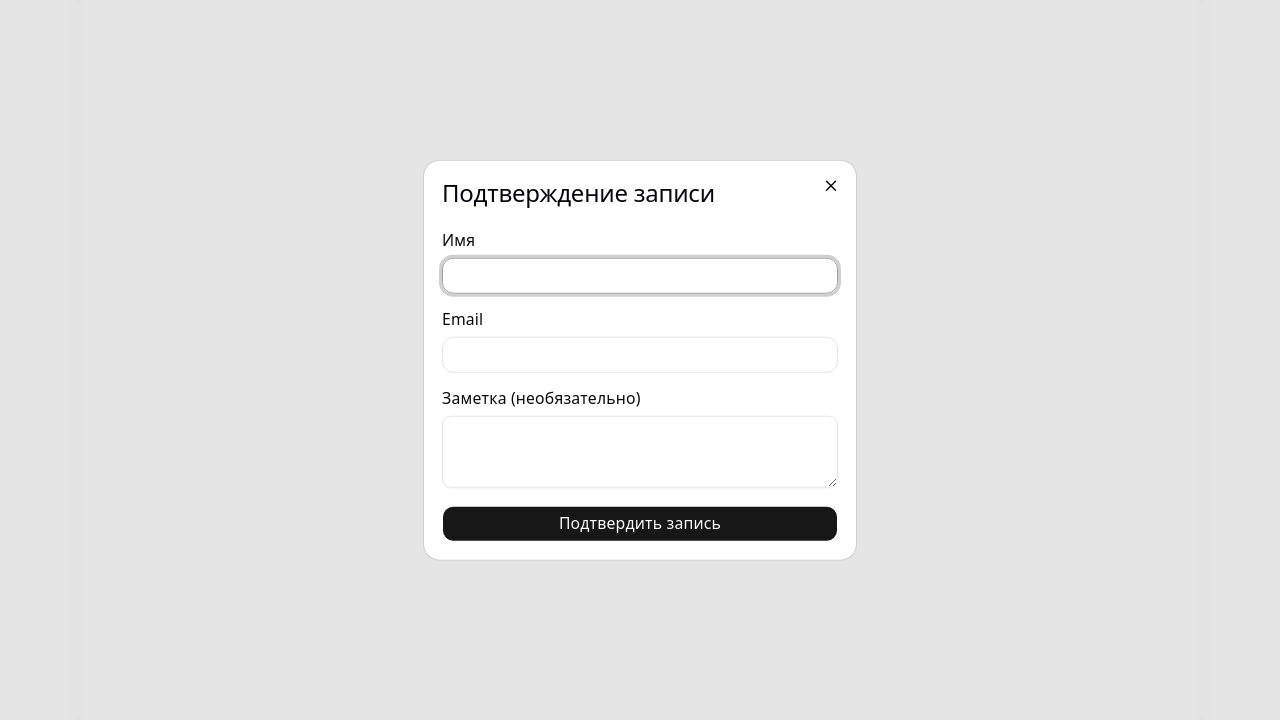
Test: BookingDialog › shows validation errors for empty name and invalid email
Type "not-an-email" into the field labelled "Email" at (640, 354), box [442, 336, 838, 372]
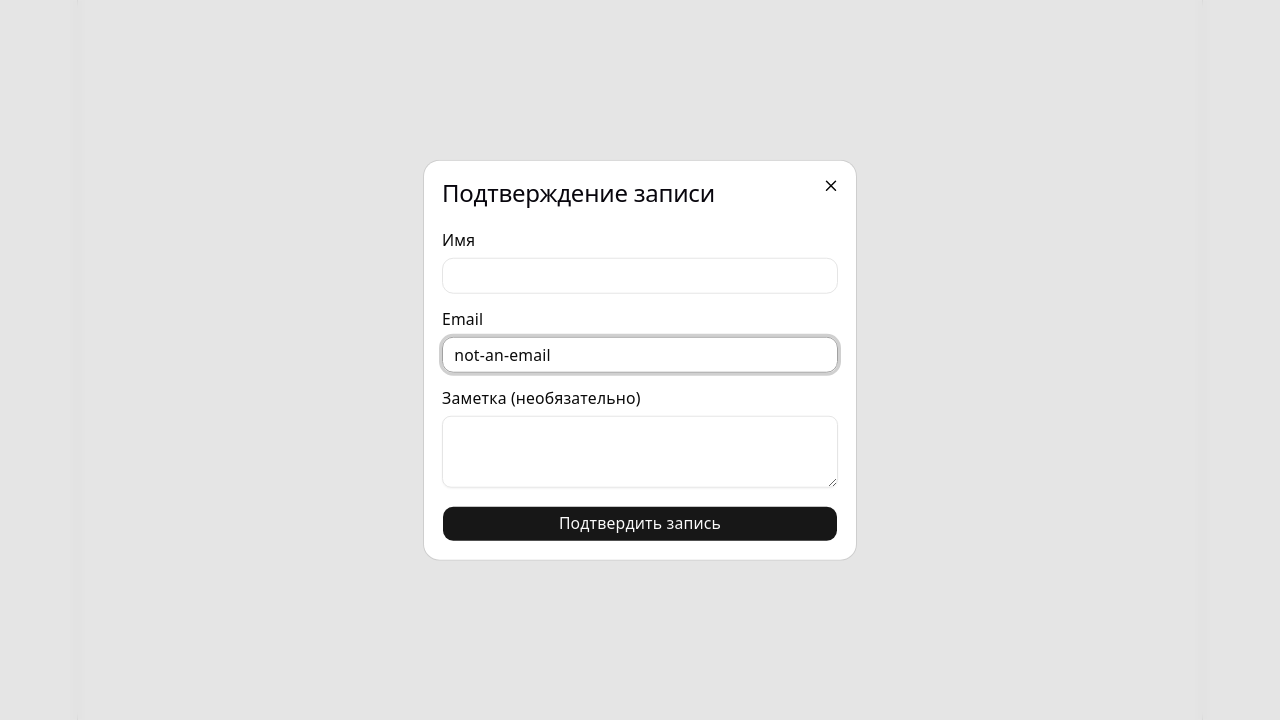
Click the button "Подтвердить запись" at (640, 523), box [442, 505, 838, 541]
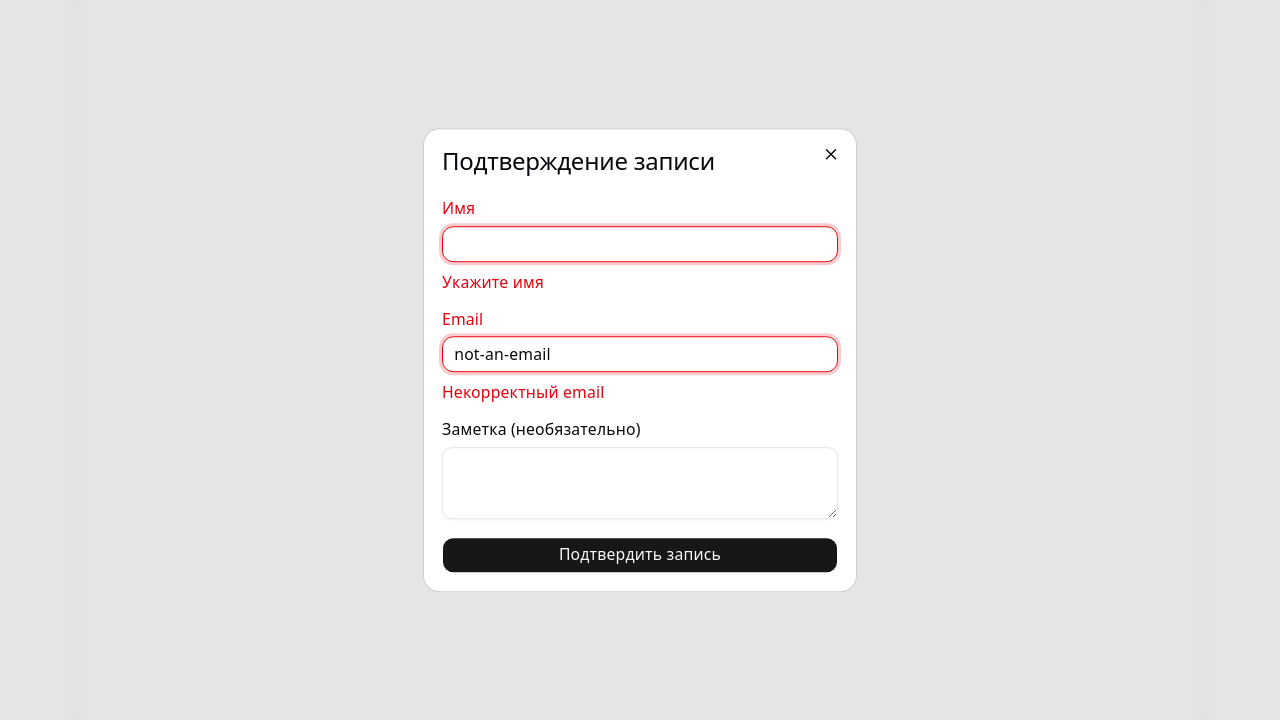
Expected: the text "Укажите имя" is shown, [442, 271, 544, 293]
Expected: the text "Некорректный email" is shown, [442, 382, 604, 404]
